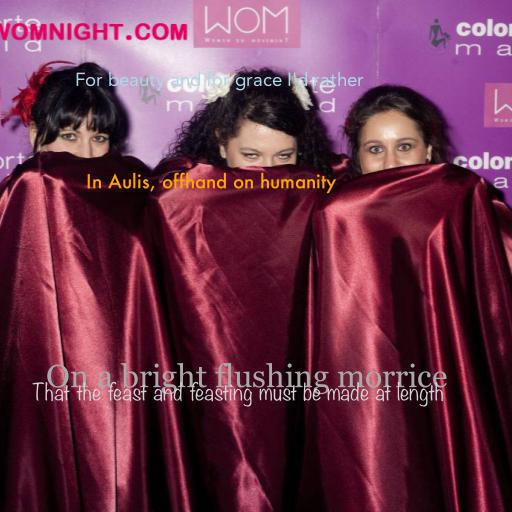Avenir: (74, 71, 364, 91)
Futura: (86, 172, 336, 194)
Georgia: (45, 362, 447, 395)
Noteworthy: (32, 381, 444, 407)
